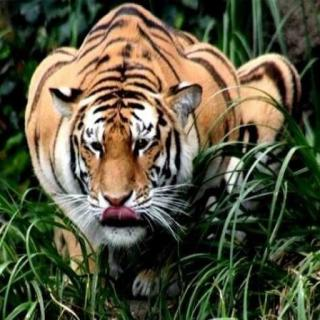Tiger: (10, 5, 312, 294)
